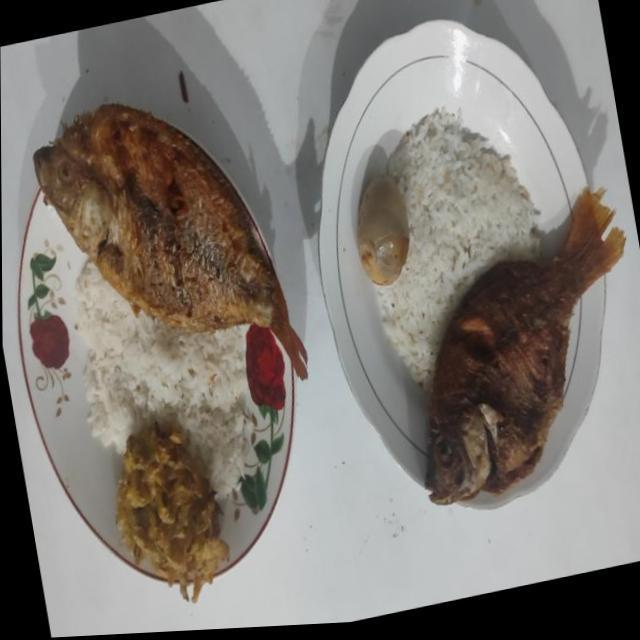ikan_mujair: (34, 103, 308, 380), (425, 192, 625, 504)
nasi_putih: (378, 107, 540, 387), (75, 262, 248, 496)
